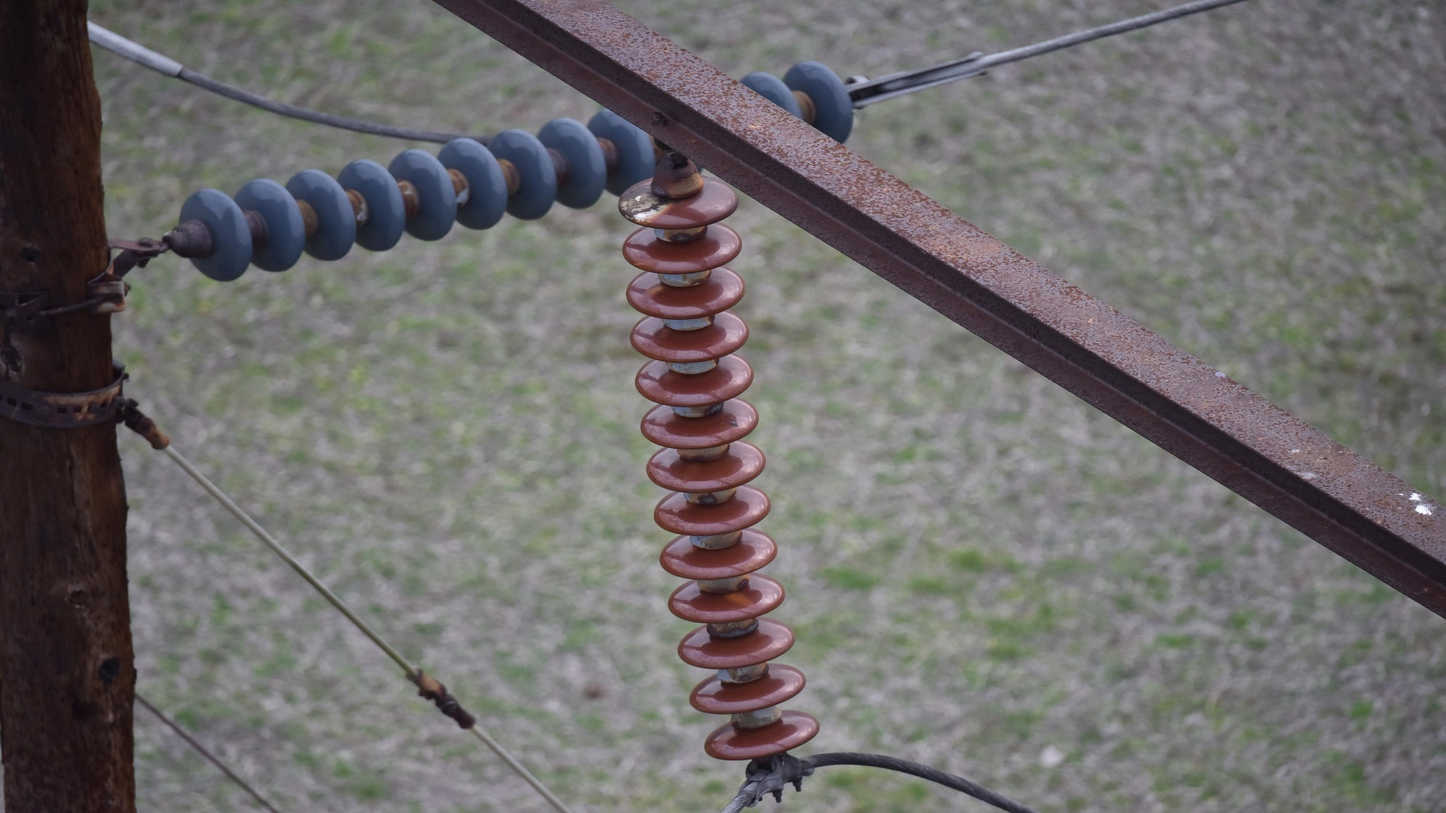insulator: (612, 171, 822, 766), (172, 106, 661, 288), (732, 55, 866, 147)
